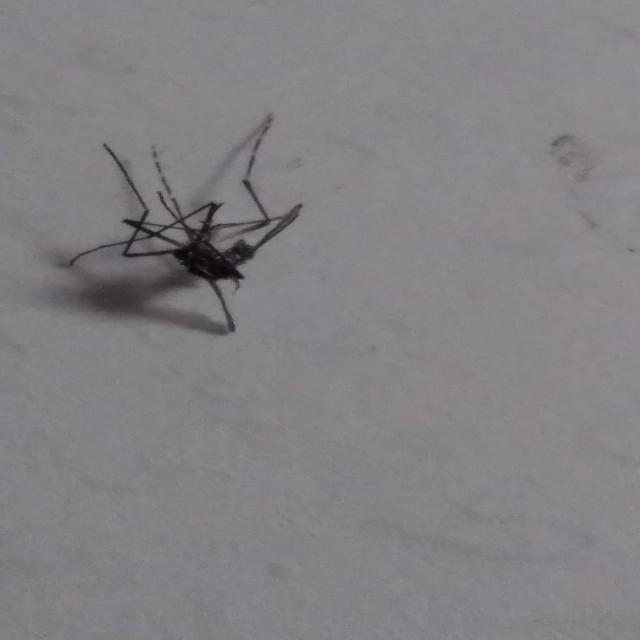albopictus: (66, 114, 320, 341)
